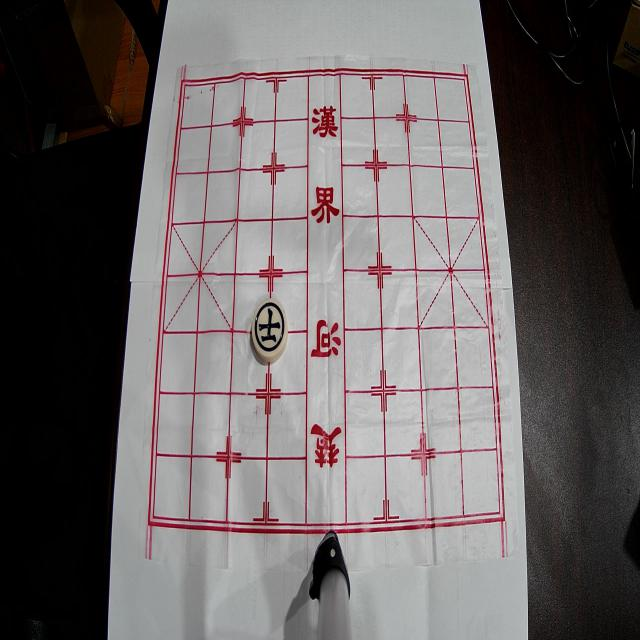black-guard: (252, 298, 288, 362)
